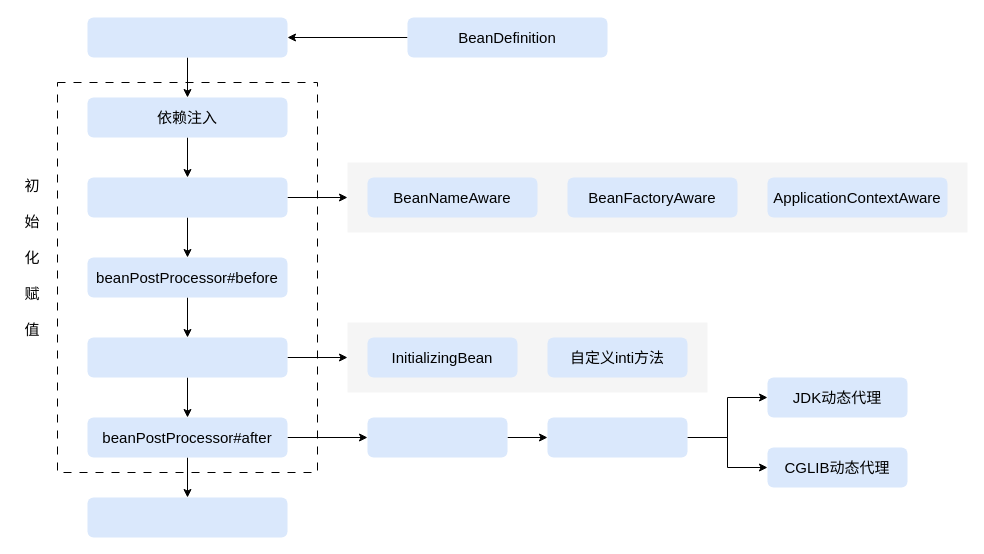
Some shapes in this 984 by 554 pixel diagram are drawn without their labels. Each missing label, with the centre of its shape:
AOP: point (437, 437)
Aware接口: point (187, 197)
初始化方法: point (187, 357)
动态代理: point (617, 437)
构造函数: point (187, 37)
销毁Bean: point (187, 517)
